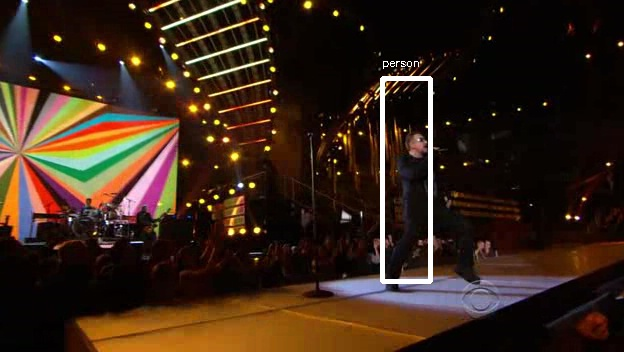person: (396, 137, 455, 240), (393, 137, 452, 240), (399, 137, 458, 240), (396, 134, 455, 237), (396, 140, 455, 243)
target_negative: (195, 161, 540, 345), (5, 165, 496, 287), (512, 86, 615, 225), (481, 225, 545, 295), (37, 153, 43, 235), (219, 304, 227, 343)
